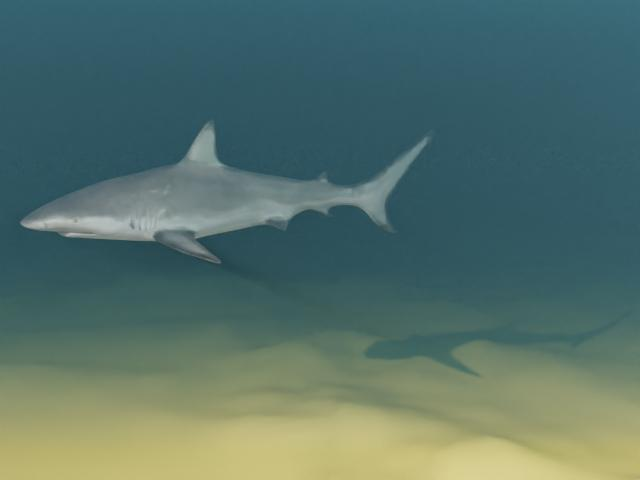Carribean Shark.001: (20, 119, 435, 263)
